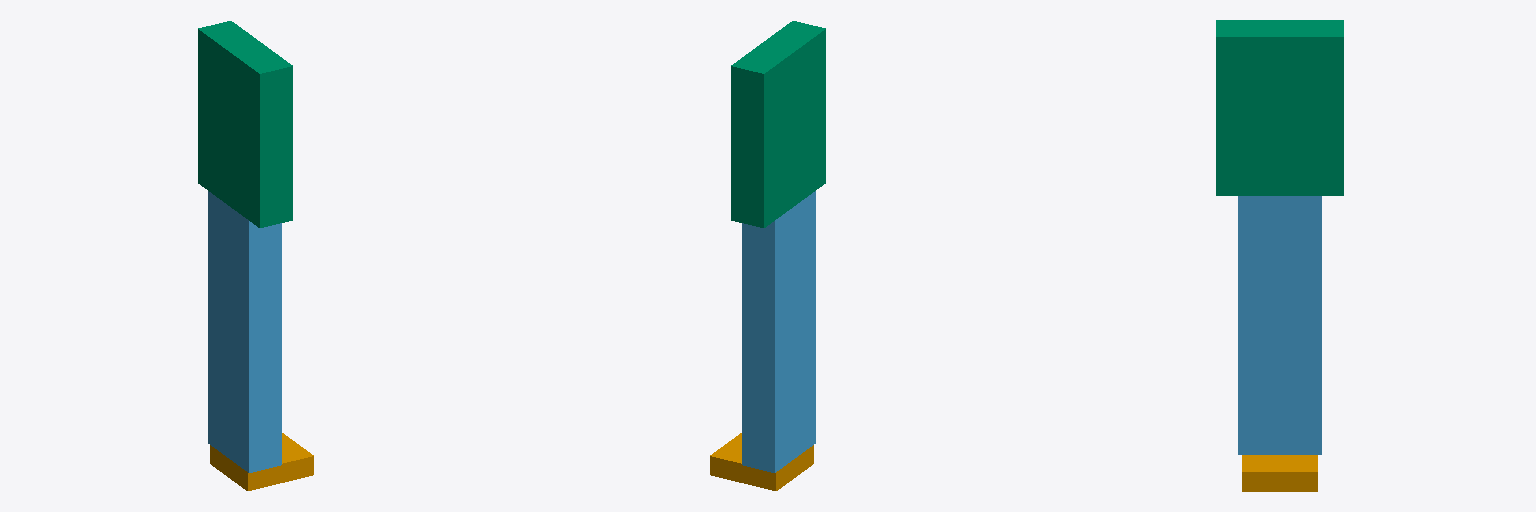
URDF robot description (threeLinkHuman):
<robot name="threeLinkHuman">
    <link name="foot">
        <inertial>
            <mass value="4.3179"/>
            <origin xyz="0 0 0.030719" rpy="0 0 0" />
            <inertia ixx="0.018205" iyy="0.019139" izz="0.034627" ixy="0" ixz="0" iyz="0"/>
        </inertial>

        <visual>
			<origin xyz="0 0 0.030719" rpy="0 0 0" />
            <geometry>
                <box size="0.22229 0.21638 0.061439"/>
            </geometry>
        </visual>

        <collision>
			<origin xyz="0 0 0.030719" rpy="0 0 0" />
            <geometry>
                <box size="0.22229 0.21638 0.061439"/>
            </geometry>
        </collision>
    </link>
    
    <link name="leg">
        <inertial>
            <mass value="30.6242"/>
            <origin xyz="0 0 0.40208" rpy="0 0 0" />
            <inertia ixx="1.7907" iyy="1.6819" izz="0.17185" ixy="0" ixz="0" iyz="0"/>
        </inertial>

        <visual>
            <origin xyz="0 0 0.40208" rpy="0 0 0" />
            <geometry>
                <box size="0.11115 0.23449 0.80417"/>
            </geometry>
        </visual>

        <collision>
            <origin xyz="0 0 0.40208" rpy="0 0 0" />
            <geometry>
                <box size="0.11115 0.23449 0.80417"/>
            </geometry>
        </collision>
    </link>
    
    <link name="torso">
        <inertial>
            <mass value="28.6115"/>
            <origin xyz="0 0 0.2457" rpy="0 0 0" />
            <inertia ixx="0.88222" iyy="0.60522" izz="0.33591" ixy="0" ixz="0" iyz="0"/>
        </inertial>

        <visual>
            <origin xyz="0 0 0.2457" rpy="0 0 0" />
            <geometry>
                <box size="0.11115 0.35851 0.49141"/>
            </geometry>
        </visual>

        <collision>
            <origin xyz="0 0 0.2457" rpy="0 0 0" />
            <geometry>
                <box size="0.11115 0.35851 0.49141"/>
            </geometry>
        </collision>
    </link>
        
    <joint name="ankle" type="revolute">
        <origin xyz="-0.055573 0 0.061439" rpy="0 0 0"/>
        <parent link="foot"/>
        <child link="leg"/>
        <dynamics damping="0.1" friction="0.0"/>
        <limit effort="30" velocity="1.0" lower="-10.0" upper="10.0" />
        <axis xyz="0 1 0" />
    </joint>
    
    <joint name="hip" type="revolute">
        <origin xyz="0 0 0.80417" rpy="0 0 0"/>
        <parent link="leg"/>
        <child link="torso"/>
        <dynamics damping="0.1" friction="0.0"/>
        <limit effort="30" velocity="1.0" lower="-10.0" upper="10.0" />
        <axis xyz="0 1 0" />
    </joint>

</robot>

--- Facts derived from the render (not from the file) ---
Views: 3 orthographic renders of the robot side by side, from view 1: azimuth 30°, elevation 25°; view 2: azimuth 150°, elevation 25°; view 3: azimuth 270°, elevation 25°.
Model threeLinkHuman with 3 links and 2 joints (2 revolute), rooted at foot, posed all joints at 0.
Visible links, largest first — view 1: leg, torso, foot; view 2: leg, torso, foot; view 3: torso, leg, foot.
Boxes of the visible links, x1,y1,x2,y2 form: leg: [208, 191, 281, 472]; torso: [198, 21, 292, 227]; foot: [210, 433, 313, 490]; leg: [742, 191, 815, 472]; torso: [731, 21, 825, 227]; foot: [710, 433, 813, 490]; torso: [1216, 20, 1343, 195]; leg: [1238, 196, 1321, 454]; foot: [1242, 455, 1317, 491].
Bounding box of the posed robot: 0.2223 × 0.3585 × 1.36 m (x, y, z).
Geometry: primitives only (box / cylinder / sphere), no mesh files.
